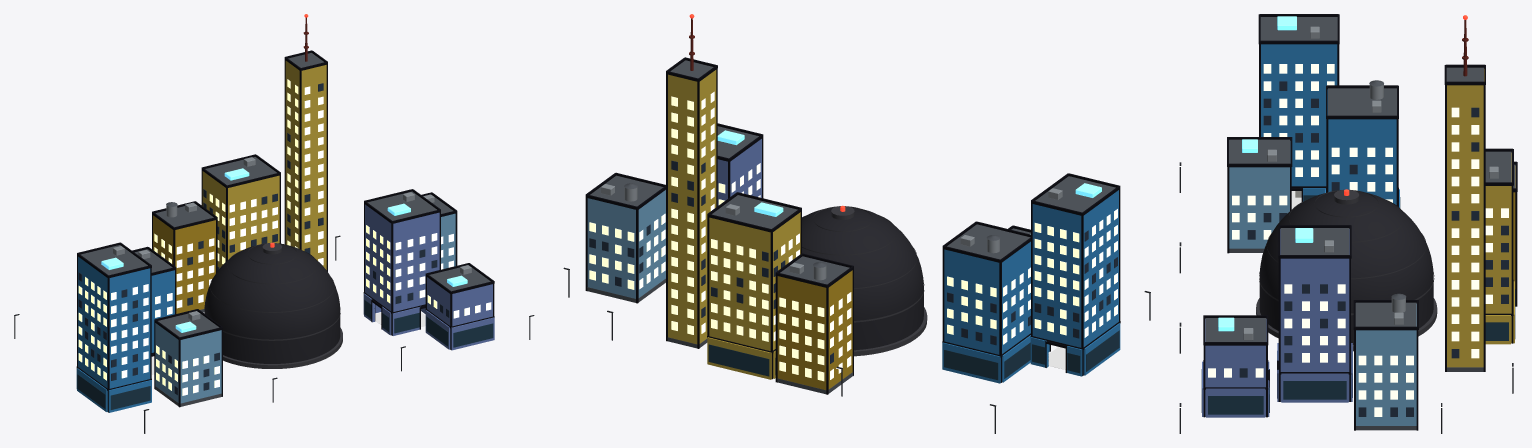
Rendered from tf-city.glb.
3 views of the same model, side by side, from view 1: azimuth 30°, elevation 25°; view 2: azimuth 150°, elevation 25°; view 3: azimuth 270°, elevation 25° (orthographic). The views are drawn at different scales.
Visible parts, largest first — view 1: tf-city; view 2: tf-city; view 3: tf-city.
Part boxes in pixels (x1,y1,x2,y2): tf-city: (14,14,534,433); tf-city: (563,14,1150,433); tf-city: (1179,14,1517,433).
Size of the model in its own units: 74.15 by 48.52 by 42.77.
